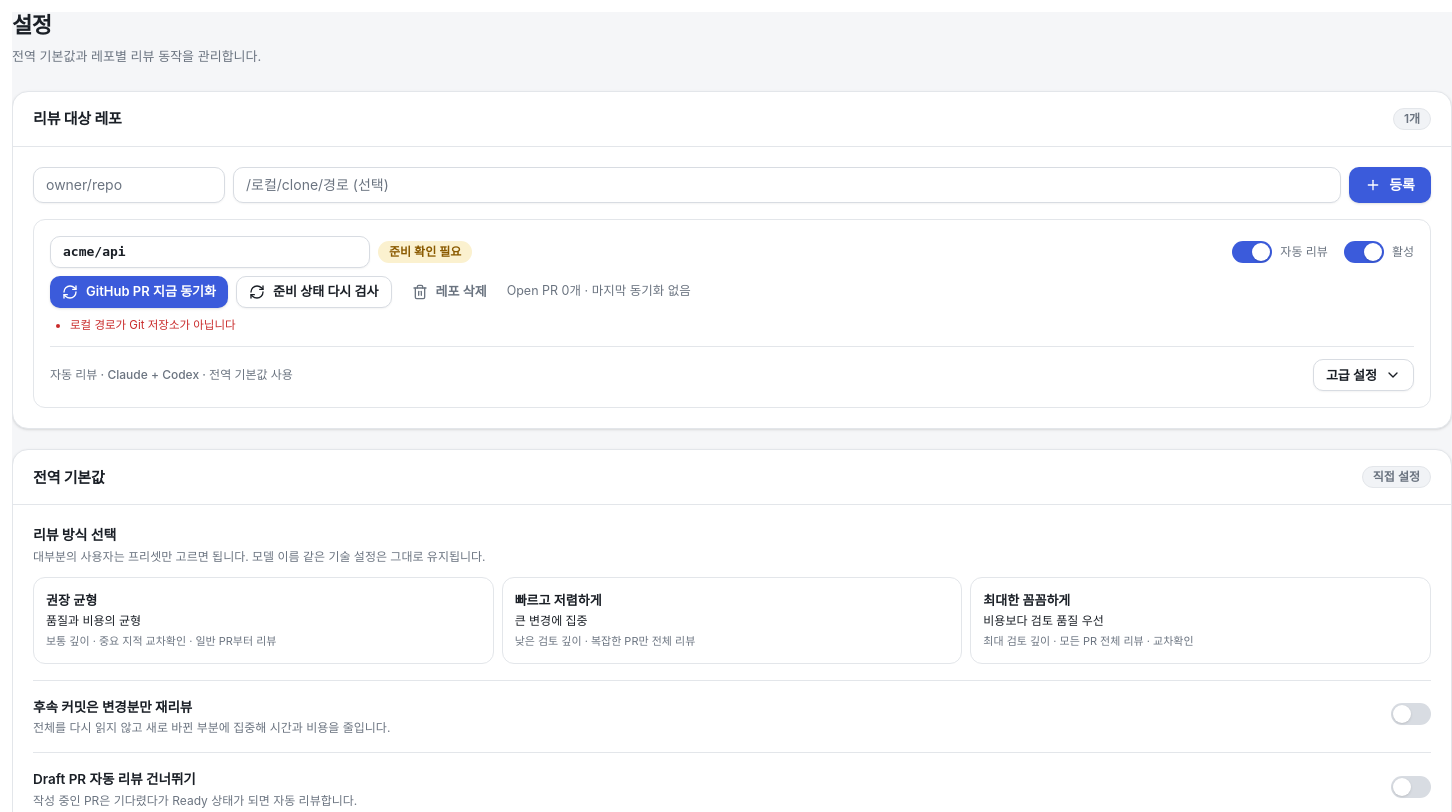
Test: shows repository readiness failures and can recheck
The image size is (1452, 812).
Expected: the list item "로컬 경로가 Git 저장소가 아닙니다" is shown, [70,318,236,332]
Click the button "준비 상태 다시 검사". click: [314, 292]
box: [236,276,392,308]
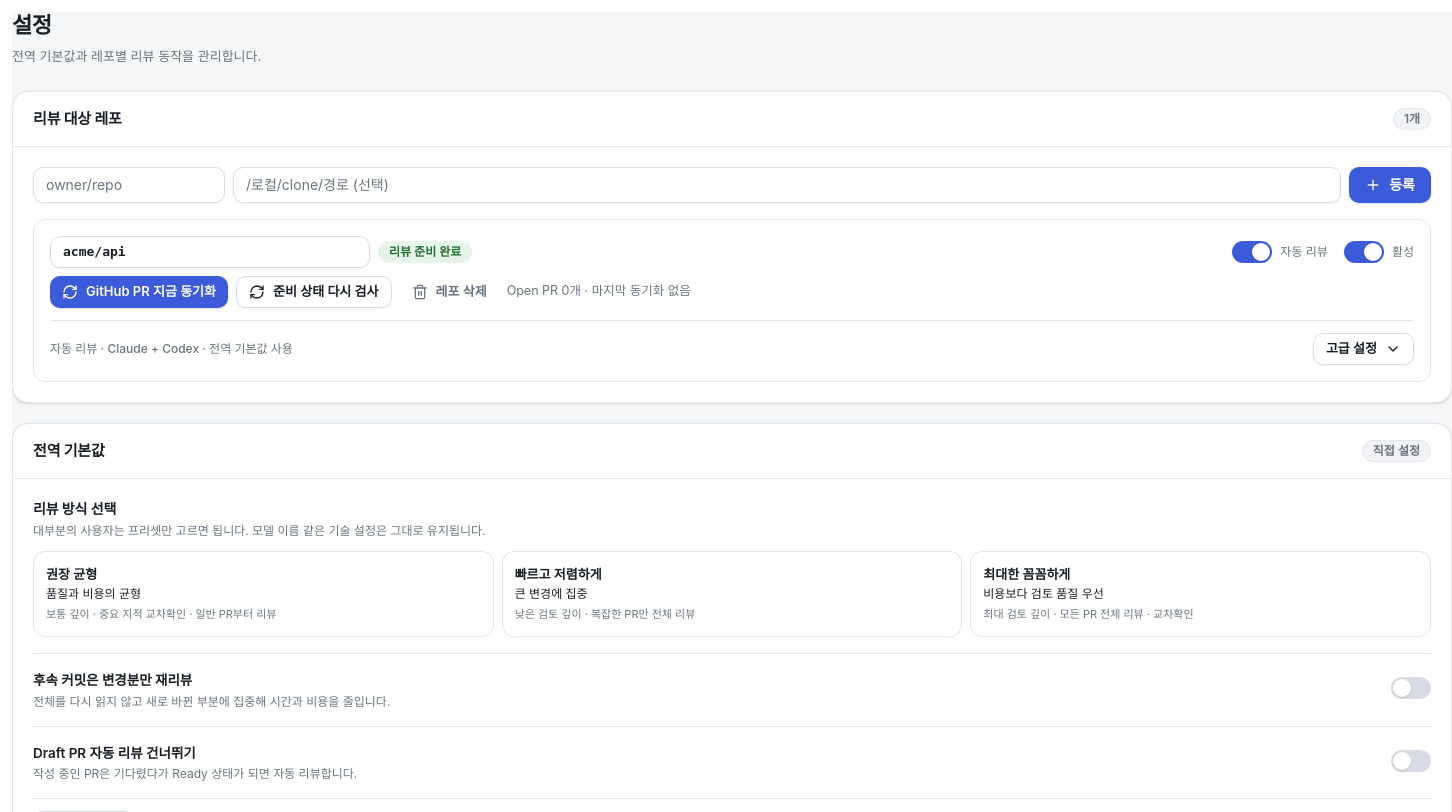
Now the text "리뷰 준비 완료" is shown, box [378,241,472,263]
